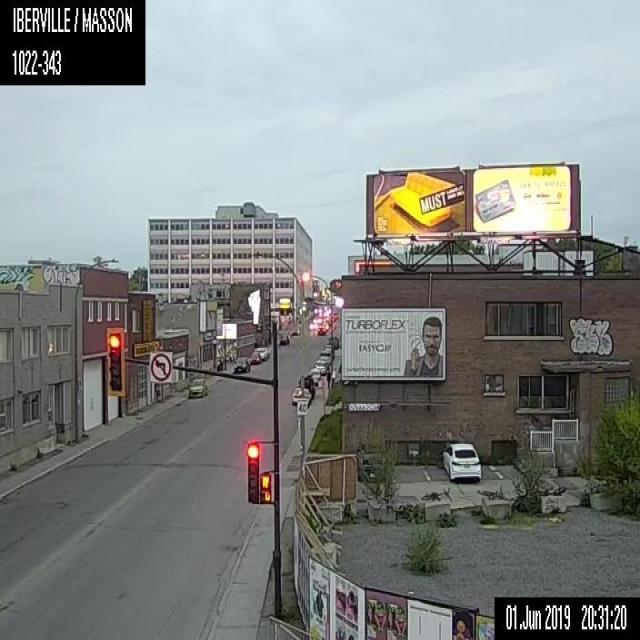pedestrian: (324, 368, 331, 391)
vehicle: (440, 442, 482, 484), (187, 376, 207, 397), (291, 386, 311, 406), (297, 376, 315, 398), (233, 355, 250, 372), (318, 350, 330, 367), (313, 359, 327, 373), (248, 350, 262, 364), (307, 368, 320, 383), (324, 343, 334, 360), (254, 347, 266, 360), (278, 332, 288, 344), (290, 326, 300, 335), (317, 324, 325, 335), (308, 321, 318, 329)
